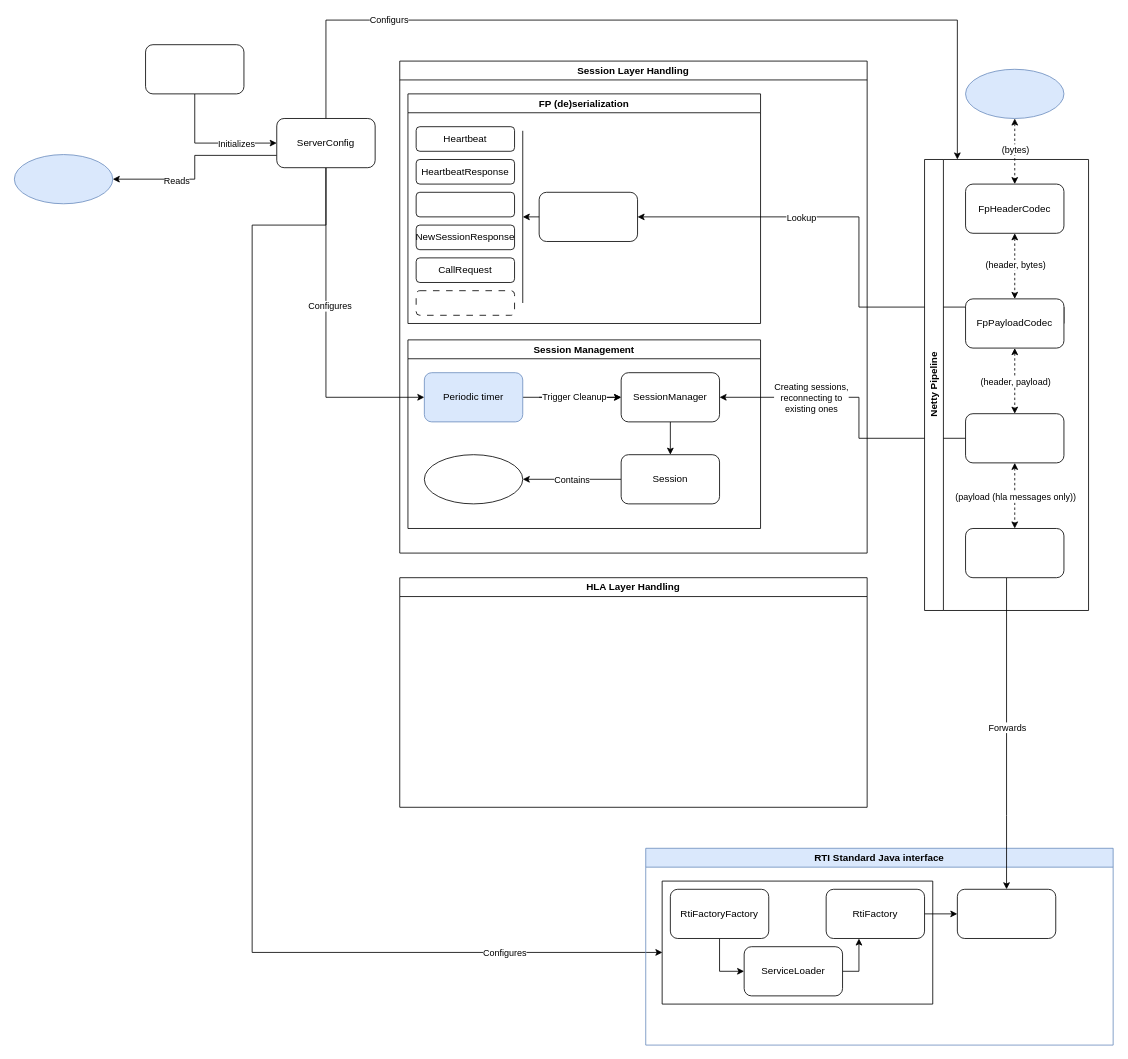
Image size: 1128x1059. Some labels were removed from this diagram. The centre of each missing label's shape, as x and y in pixels:
App: (194,69)
Environment variables: (63,179)
etc: (465,302)
FpSessionLayer: (1014,438)
HlaForwardingLayer: (1014,553)
Incoming Messages: (1014,93)
NewSession: (465,204)
PacketTypeRegistry: (588,216)
RtiAmbassador: (1006,913)
Unique, cryptographically random id: (473,479)
